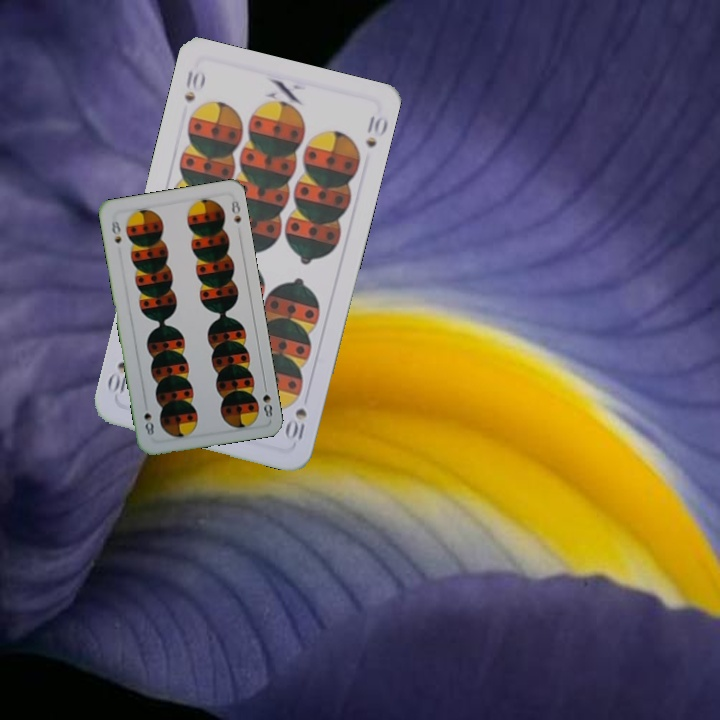S10: (281, 404, 309, 443), (180, 66, 208, 105)
S8: (259, 380, 275, 420), (107, 217, 124, 246)
